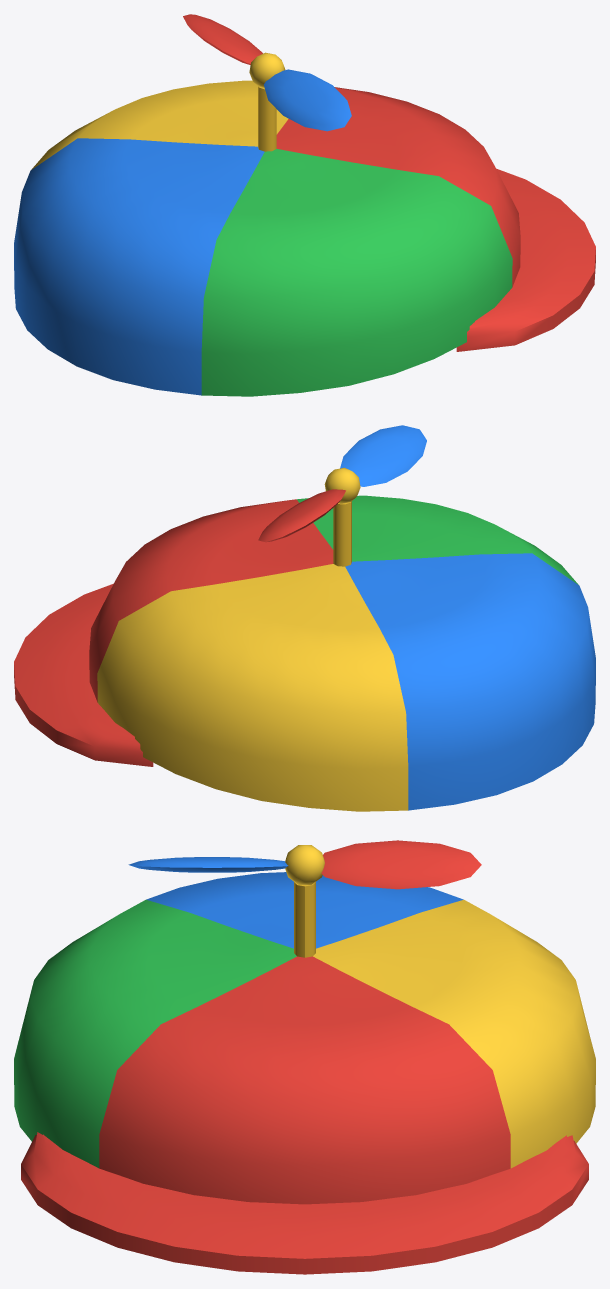
File: acc_propeller.glb
3 views of the same model, one above another, from view 1: azimuth 30°, elevation 25°; view 2: azimuth 150°, elevation 25°; view 3: azimuth 270°, elevation 25° (orthographic). The views are drawn at different scales.
Visible parts, largest first — view 1: PropCap, Propeller; view 2: PropCap, Propeller; view 3: PropCap, Propeller.
Part boxes in pixels (x1,y1,x2,y2): PropCap: (14,80,595,396); Propeller: (183,14,351,131); PropCap: (14,495,595,811); Propeller: (258,425,426,542); PropCap: (14,872,595,1274); Propeller: (128,840,481,889).
Size of the model in its own units: 0.5492 by 0.2471 by 0.4705.
